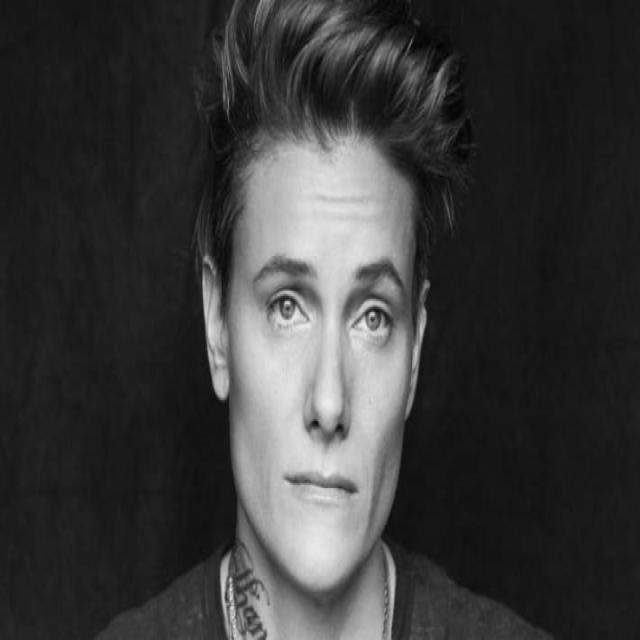mobile_phonerotation: (86, 0, 560, 637)
